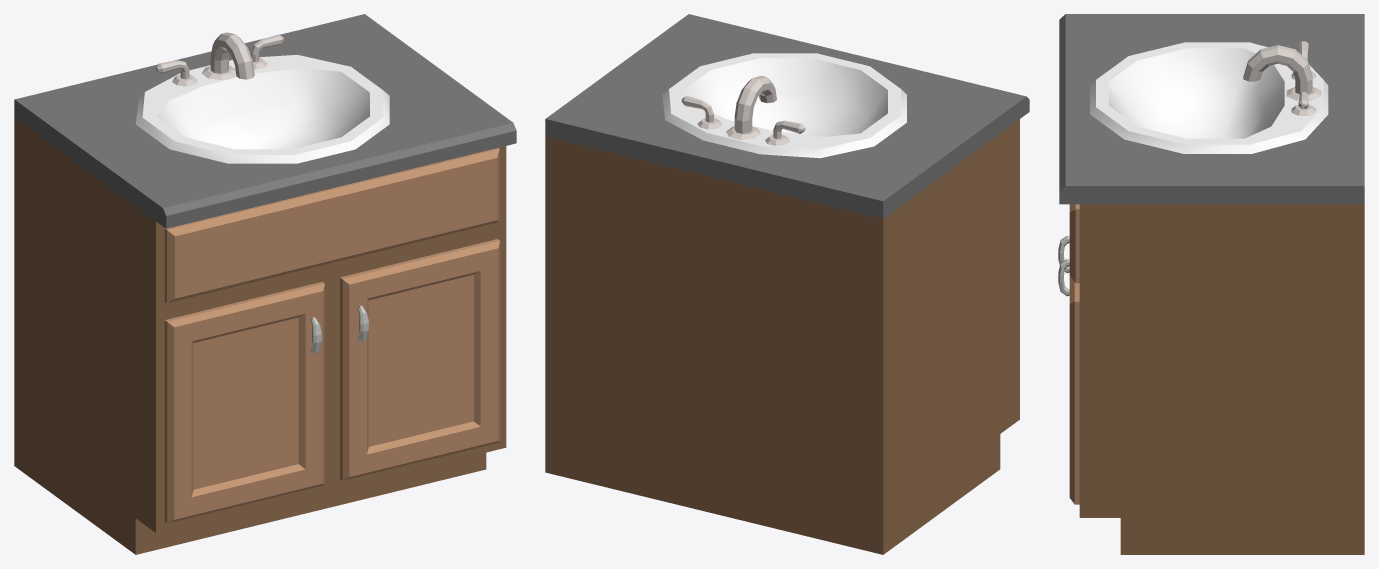
File: Bathroom_Cabinet_Sink.obj
3 views of the same model, side by side, from view 1: azimuth 30°, elevation 25°; view 2: azimuth 150°, elevation 25°; view 3: azimuth 270°, elevation 25° (orthographic). The views are drawn at different scales.
Visible parts, largest first — view 1: object1, object3, object6, object7, object10, object5; view 2: object1, object3, object10, object5; view 3: object1, object3, object10, object7, object5.
Part boxes in pixels (bbox=[...]): object1: bbox=[14, 118, 506, 554]; object3: bbox=[14, 14, 516, 228]; object6: bbox=[164, 281, 324, 523]; object7: bbox=[340, 239, 500, 480]; object10: bbox=[135, 54, 389, 163]; object5: bbox=[201, 32, 254, 80]; object1: bbox=[545, 119, 1019, 554]; object3: bbox=[545, 14, 1029, 218]; object10: bbox=[662, 53, 906, 158]; object5: bbox=[726, 75, 776, 139]; object1: bbox=[1069, 204, 1364, 554]; object3: bbox=[1059, 14, 1364, 204]; object10: bbox=[1090, 42, 1328, 153]; object7: bbox=[1069, 275, 1079, 504]; object5: bbox=[1243, 45, 1321, 100].
Size of the model in its own units: 1 by 1.14 by 0.7531.
